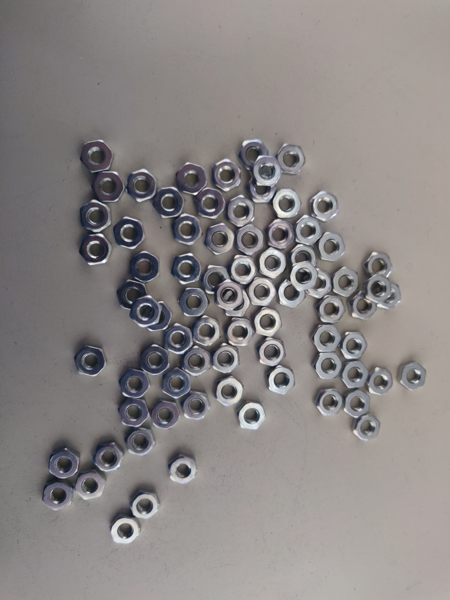nut: (114, 217, 148, 251), (162, 368, 195, 402), (80, 140, 115, 172), (154, 187, 187, 219), (74, 346, 108, 377), (93, 172, 125, 204), (203, 223, 235, 255), (79, 235, 112, 266), (196, 188, 227, 221), (237, 140, 270, 171), (130, 296, 161, 329), (138, 344, 171, 375), (81, 200, 111, 234), (176, 163, 207, 195), (129, 252, 161, 283), (172, 253, 203, 285), (182, 346, 212, 379), (111, 513, 141, 546), (49, 448, 78, 482), (117, 280, 148, 311), (119, 397, 150, 428), (178, 288, 210, 318), (42, 481, 72, 513), (94, 442, 124, 474), (213, 159, 242, 192), (125, 428, 158, 457), (173, 215, 203, 246), (119, 370, 150, 400), (163, 325, 194, 355), (130, 491, 161, 521), (248, 277, 278, 308), (252, 156, 281, 188), (128, 169, 156, 202), (168, 455, 198, 485), (200, 265, 230, 295), (257, 338, 287, 368), (309, 192, 339, 222), (253, 307, 282, 338), (150, 400, 179, 431), (234, 225, 263, 256), (228, 195, 256, 227), (318, 232, 346, 264), (237, 400, 266, 430), (226, 318, 255, 348), (289, 261, 318, 291), (266, 220, 295, 250), (215, 376, 243, 407), (332, 267, 359, 299), (279, 275, 305, 308), (353, 413, 382, 442), (273, 189, 302, 218), (318, 296, 347, 325), (267, 365, 295, 395), (399, 361, 427, 391), (78, 470, 105, 501), (194, 317, 221, 348), (260, 248, 287, 279), (231, 255, 258, 285), (279, 145, 305, 176), (216, 280, 242, 311), (364, 252, 392, 280), (365, 275, 393, 303), (183, 392, 210, 421), (213, 344, 240, 373), (316, 388, 343, 417), (314, 353, 342, 380), (374, 283, 401, 311), (312, 326, 341, 352), (352, 291, 378, 320), (297, 216, 322, 246), (342, 332, 369, 359), (369, 367, 395, 395), (309, 268, 332, 299), (342, 362, 368, 389), (345, 391, 371, 418), (147, 303, 172, 331), (224, 292, 251, 317), (249, 181, 279, 202), (291, 247, 317, 270)
